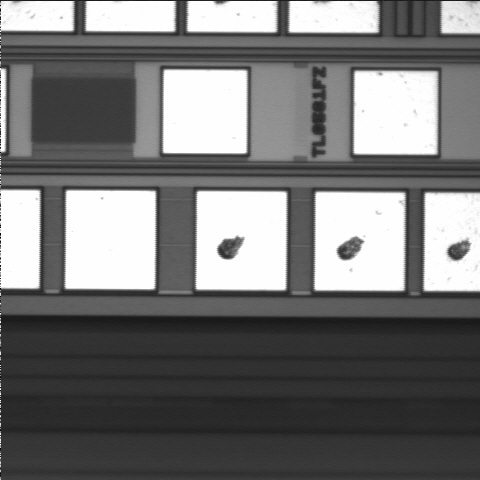pad: (196, 191, 286, 290), (315, 192, 405, 291), (66, 191, 155, 289), (163, 70, 247, 153), (354, 71, 437, 154)
